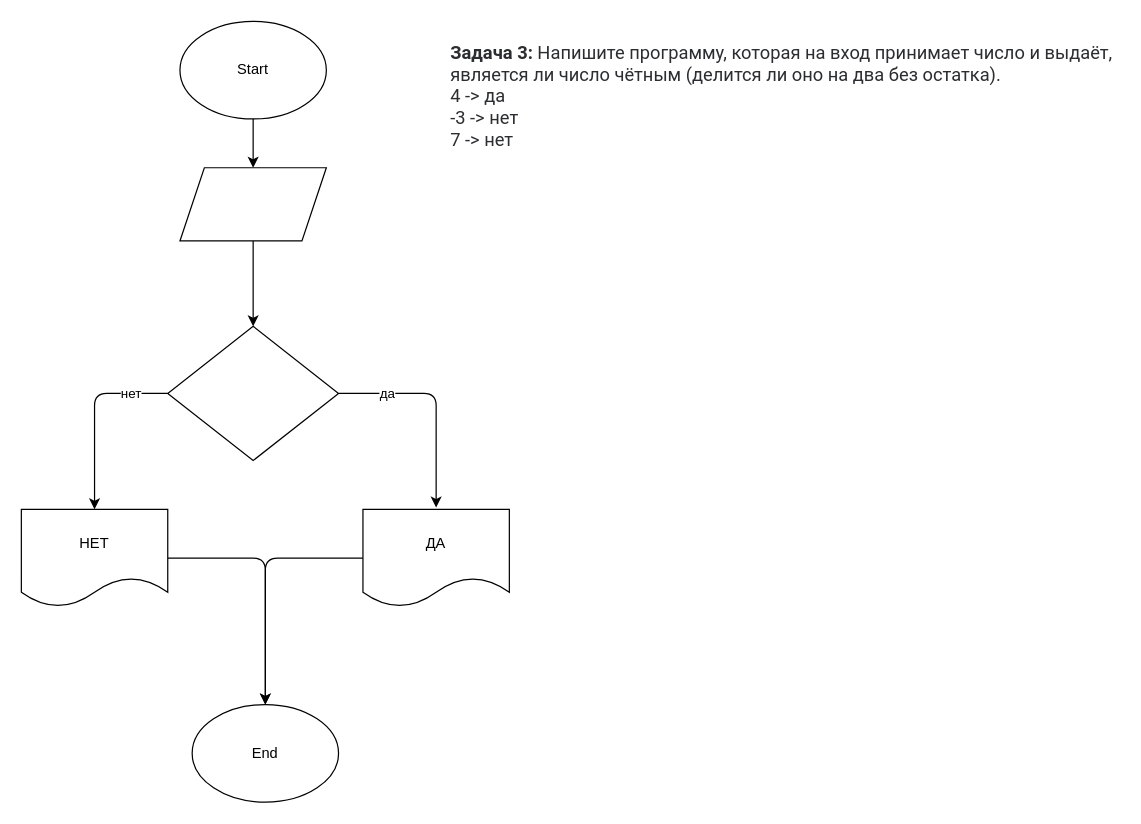
The diagram is 1141 pixels wide and 824 high, and some of its shapes have lost their labels. The box of each missing label's shape, as (x1, y1, x2, y2) in pixels:
(number mod 2) == 0: (167, 325, 339, 461)
number: (179, 167, 326, 241)
